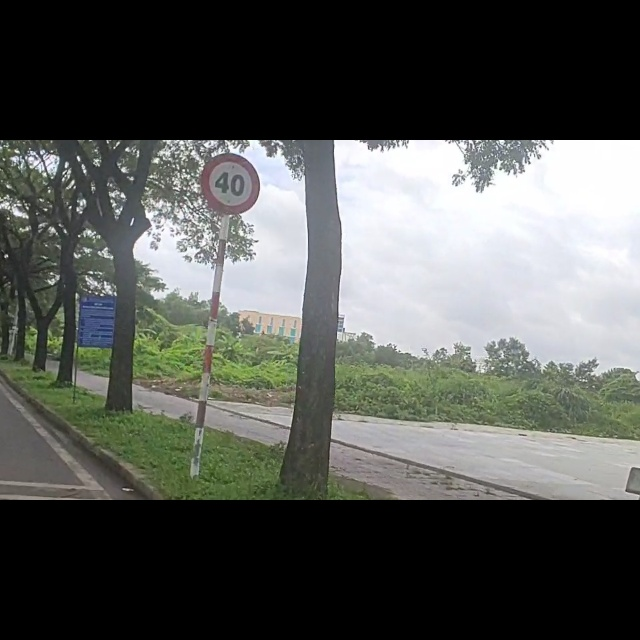Tốc độ tối đa cho phép 40km/h: (200, 154, 259, 215)
